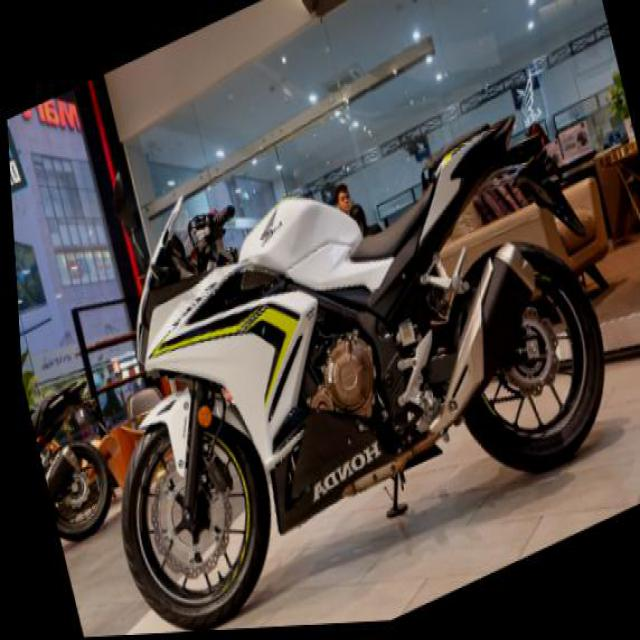CBR500R: (39, 25, 638, 637)
